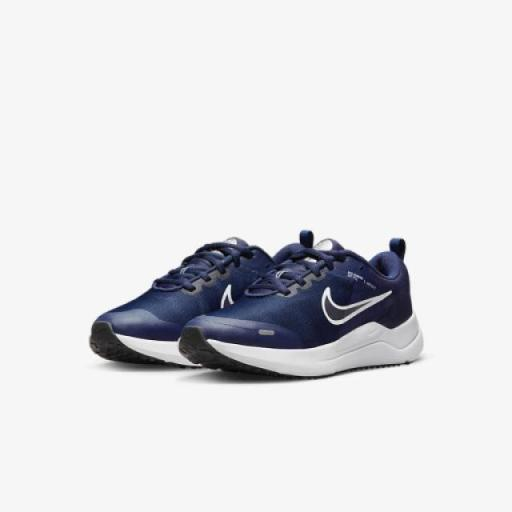Nike: (313, 285, 398, 331)
